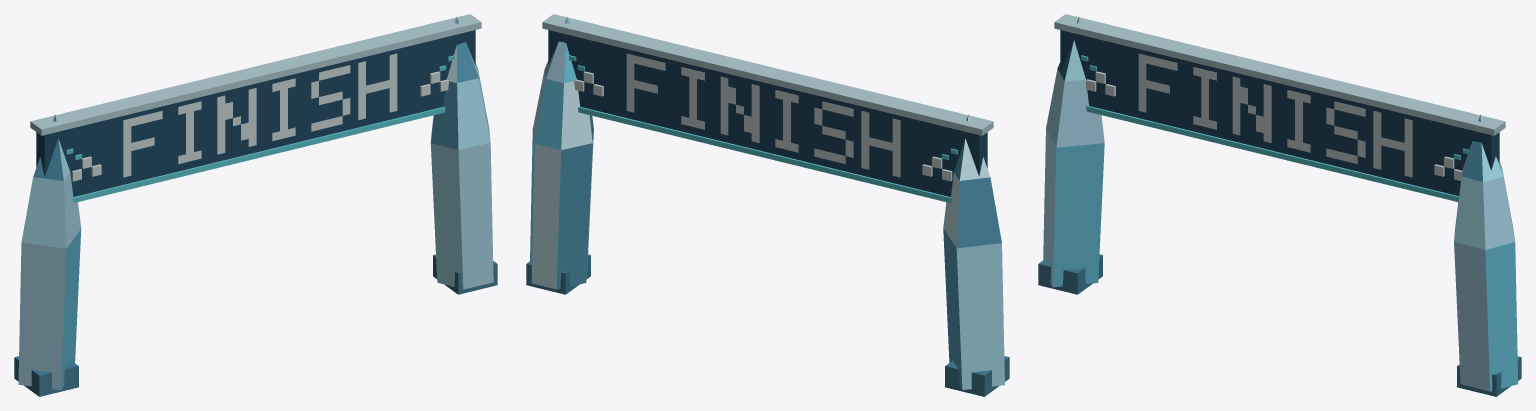
File: finish.glb
3 renders of one model, left to right at view 1: azimuth 30°, elevation 25°; view 2: azimuth 150°, elevation 25°; view 3: azimuth 330°, elevation 25°, orthographic.
Parts seen in each view (by area): view 1: finish; view 2: finish; view 3: finish.
Boxes of the visible parts, x1=… form: finish: x1=14, y1=14, x2=497, y2=396; finish: x1=526, y1=14, x2=1009, y2=396; finish: x1=1038, y1=14, x2=1521, y2=396.
Bounding box in the file's own units: 10.24 × 5.5 × 1.28.
